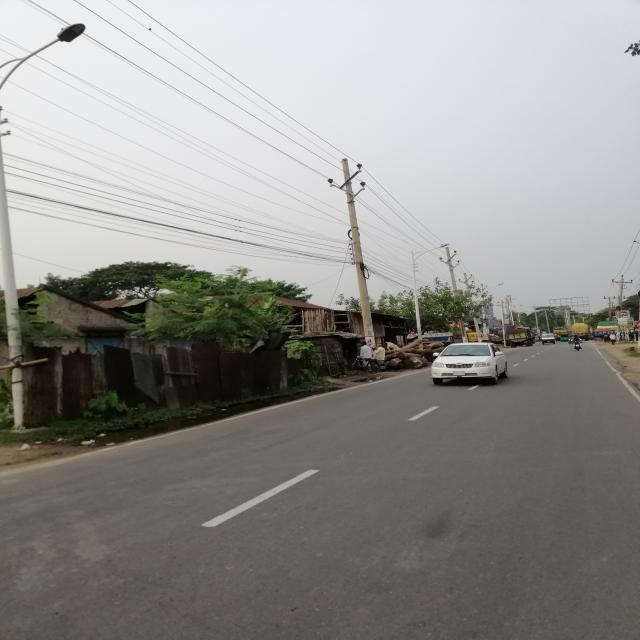Car: (423, 341, 520, 389)
